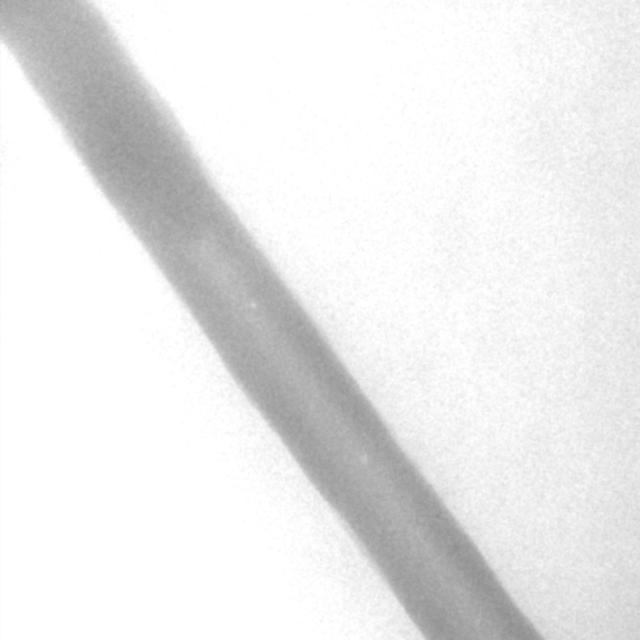air-hole: (248, 297, 259, 312), (360, 452, 368, 469)
